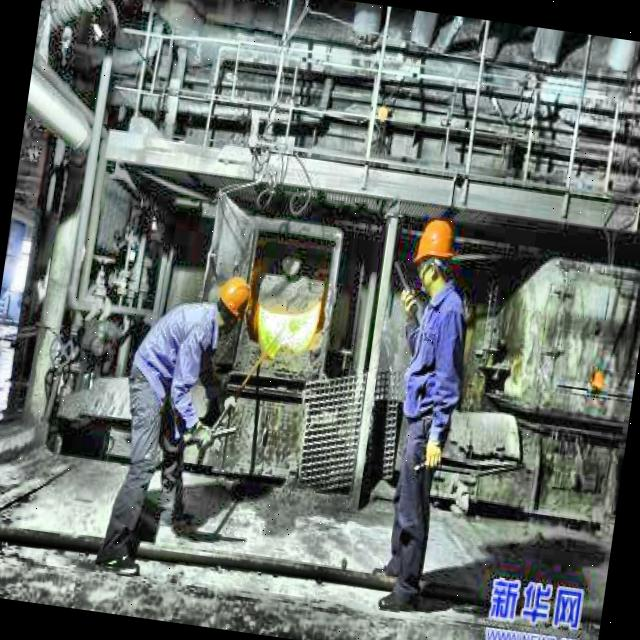helmet: (404, 212, 464, 308), (213, 274, 258, 330)
